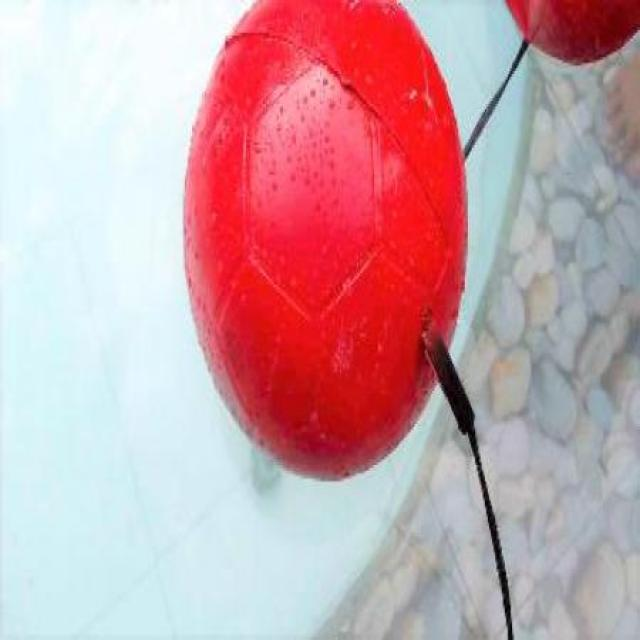buoy: (182, 2, 467, 480)
